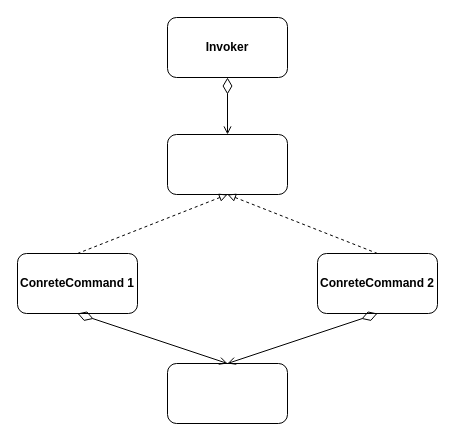
Image size: 455x441. Some labels were removed from this diagram. The box of each missing label's shape, as (x1, y1, x2, y2) in pixels:
Command: (166, 134, 288, 194)
Receiver: (166, 362, 288, 424)
